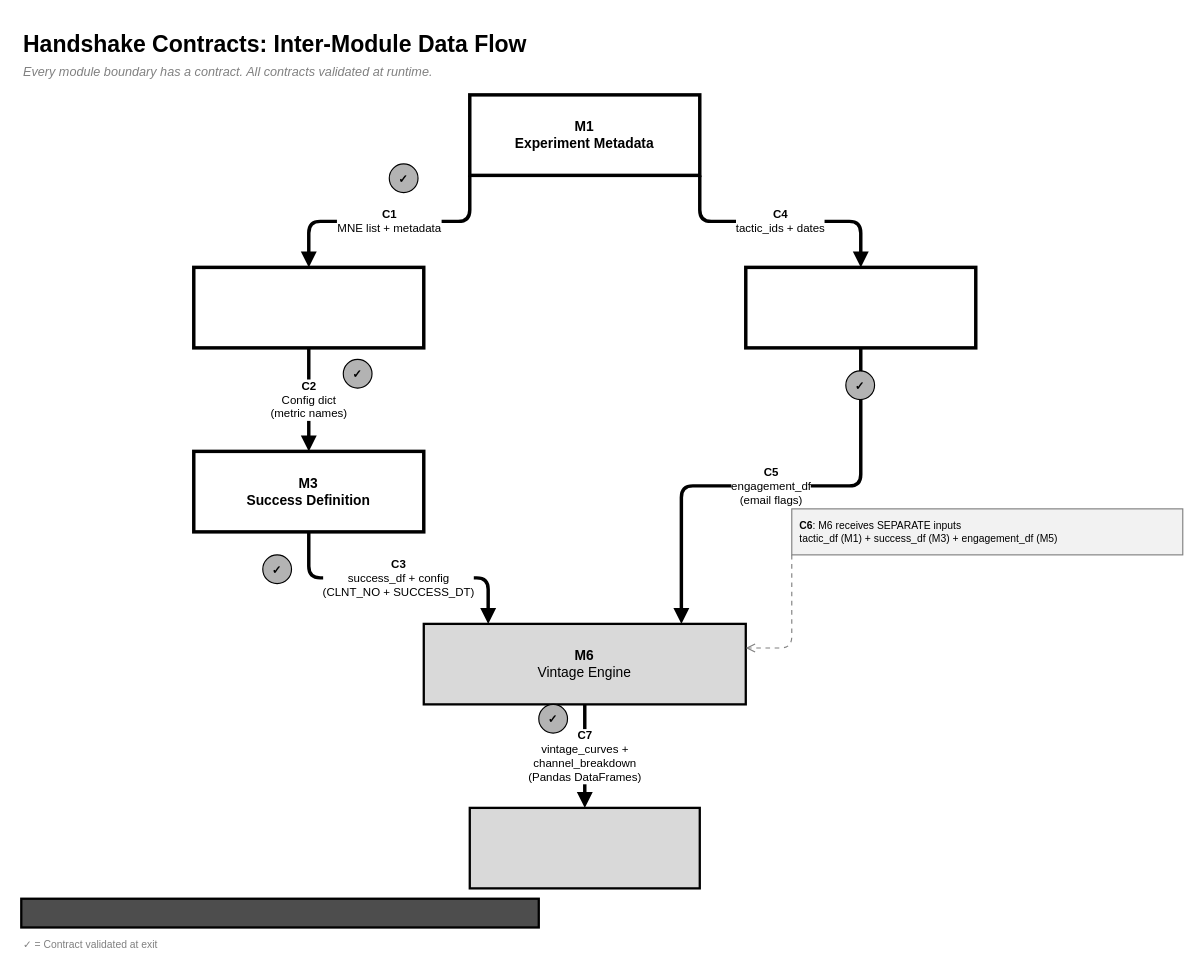
This 1203x975 diagram has some shape labels left out. The centre of each missing label's shape, as x and y in pixels:
"CLNT_NO Format: String, no leading zeros — enforced across ALL modules" goes at [279,912].
"M2 Campaign Mapping" goes at [308,307].
"M5 Client Journey" goes at [860,307].
"M7 Output" goes at [584,847].
